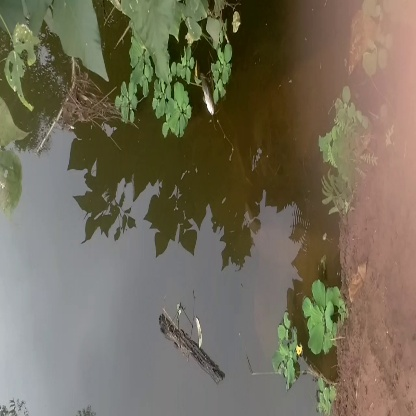branch: (154, 305, 231, 384)
